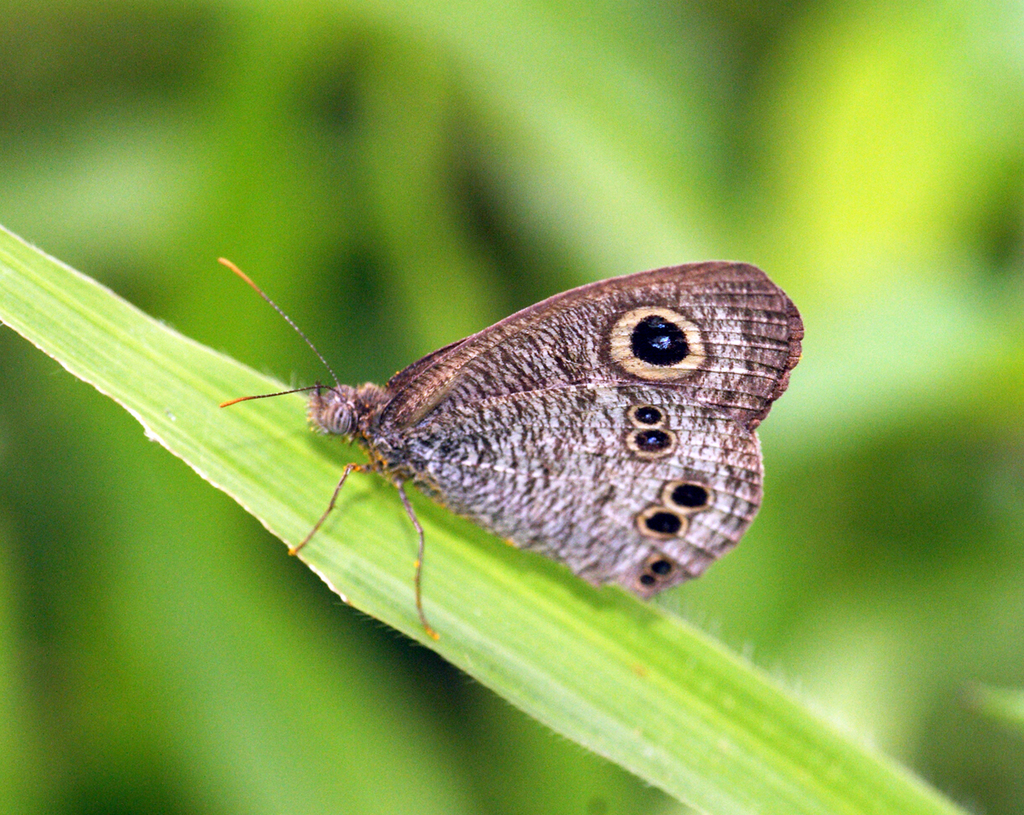Butterfly: (239, 248, 811, 606)
